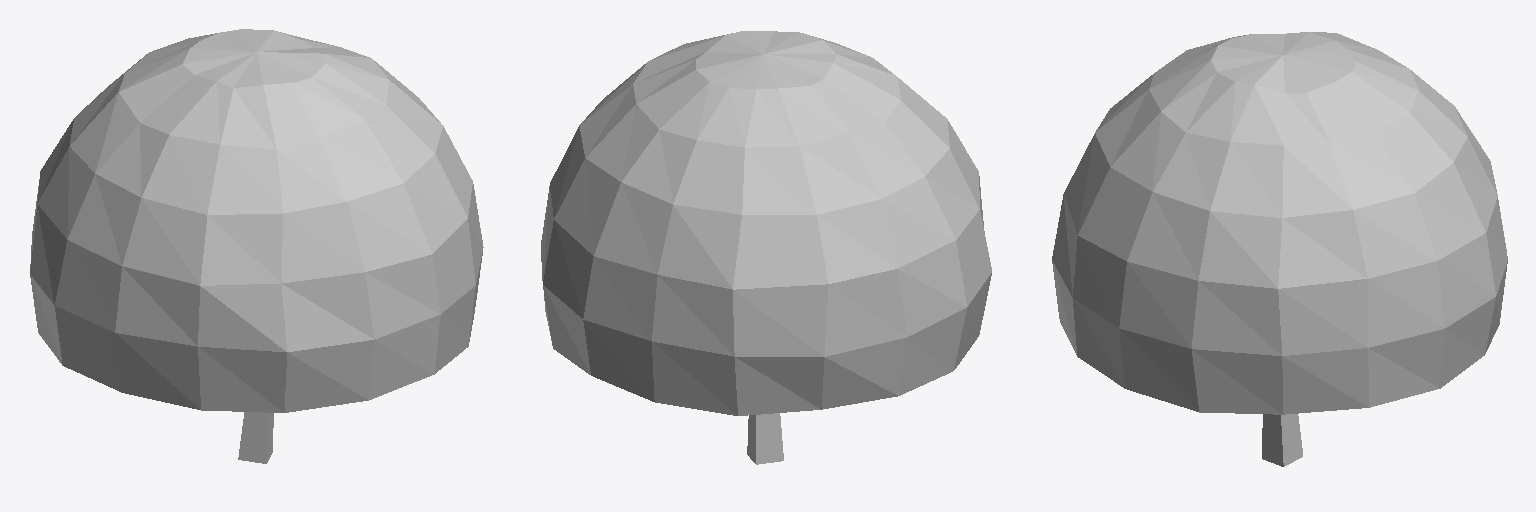
File: mushroomvoronoi.obj
3 renders of one model, left to right at view 1: azimuth 30°, elevation 25°; view 2: azimuth 150°, elevation 25°; view 3: azimuth 270°, elevation 25°, orthographic.
Visible parts, largest first — view 1: Sphere, Cube_Cube.001; view 2: Sphere, Cube_Cube.001; view 3: Sphere, Cube_Cube.001.
Boxes of the visible parts, x1,y1,x2,y2 form: Sphere: [30, 29, 483, 412]; Cube_Cube.001: [238, 412, 273, 463]; Sphere: [541, 31, 991, 415]; Cube_Cube.001: [747, 413, 783, 464]; Sphere: [1052, 32, 1507, 414]; Cube_Cube.001: [1262, 414, 1302, 466].
Bounding box in the file's own units: 12.71 × 12.25 × 12.53.